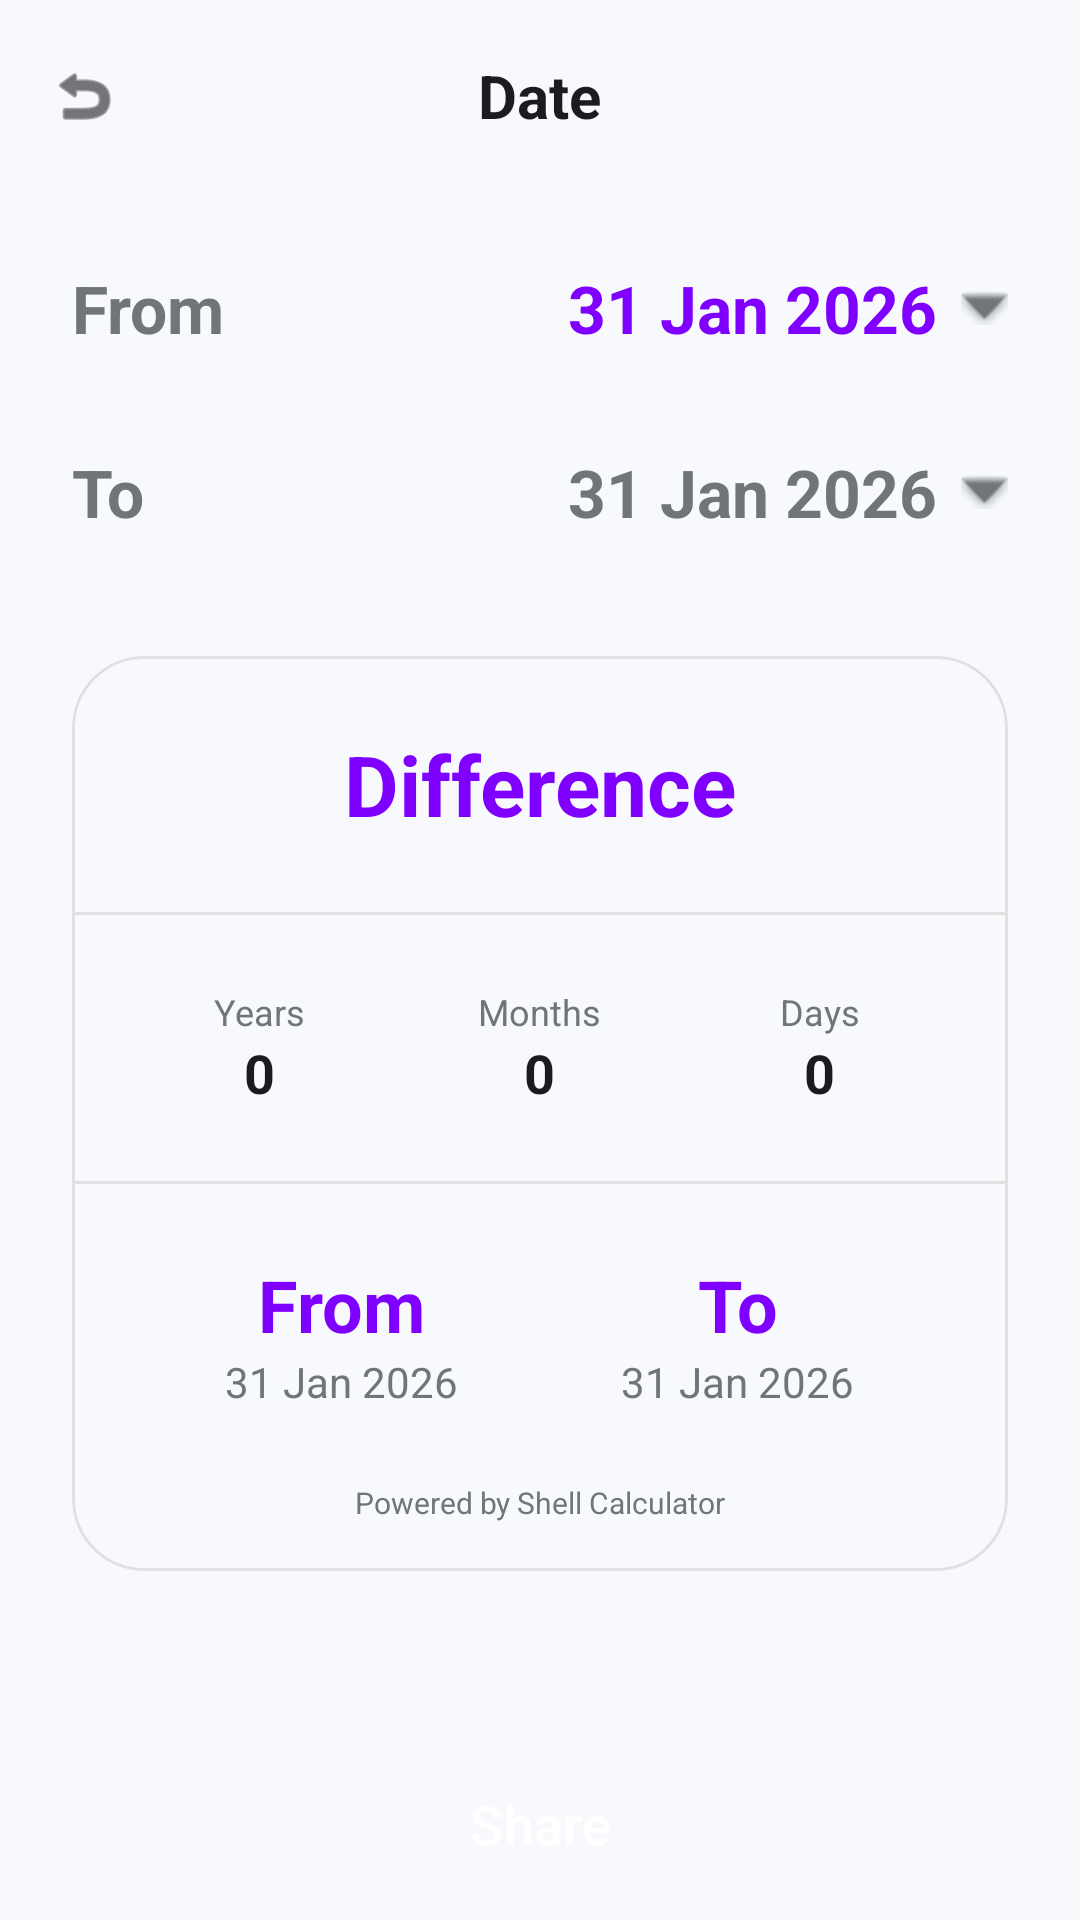

Screen size 1080×1920. Icon name, then its center in pixels as [x,y]:
revert: [85,96]
